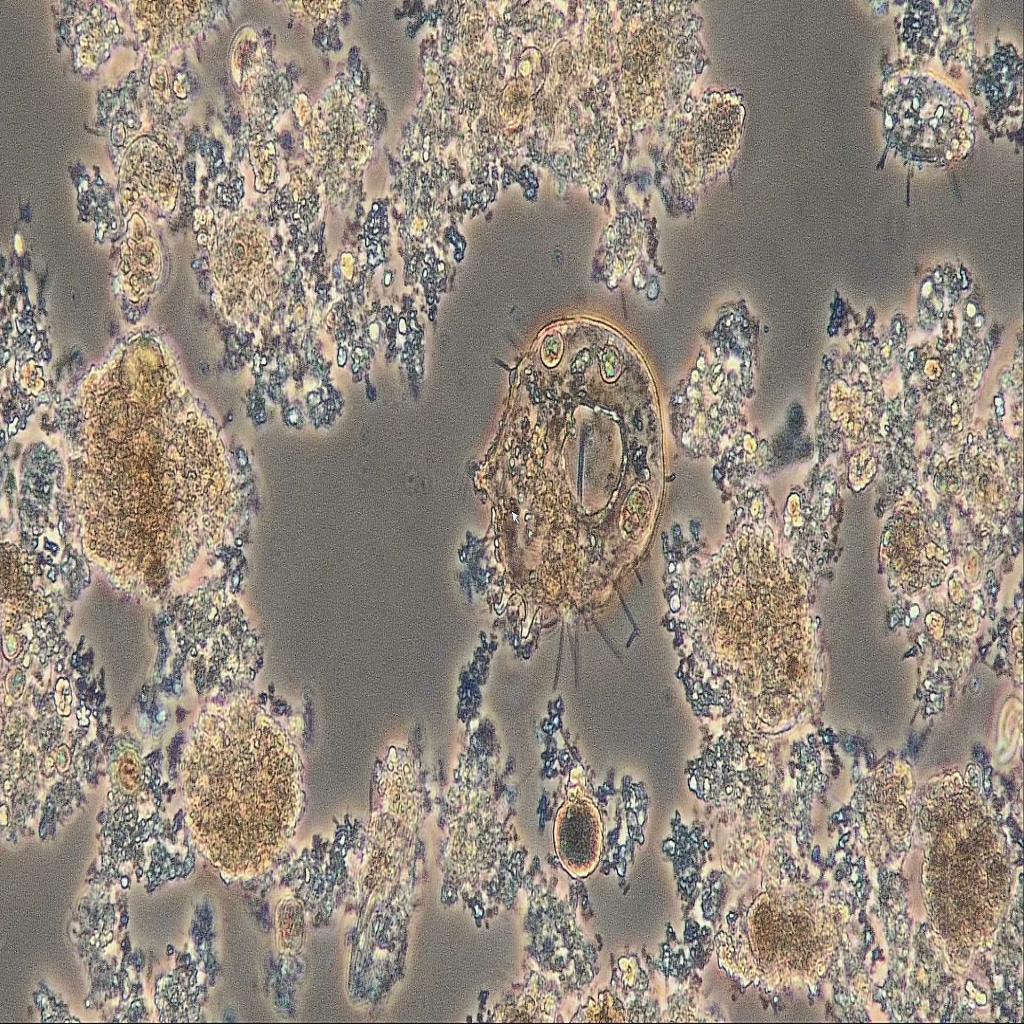Arcella: (474, 277, 693, 689)
